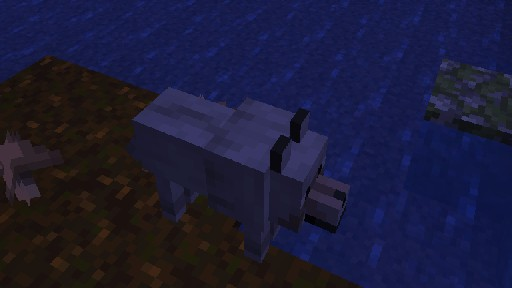wolf: (124, 86, 350, 263)
